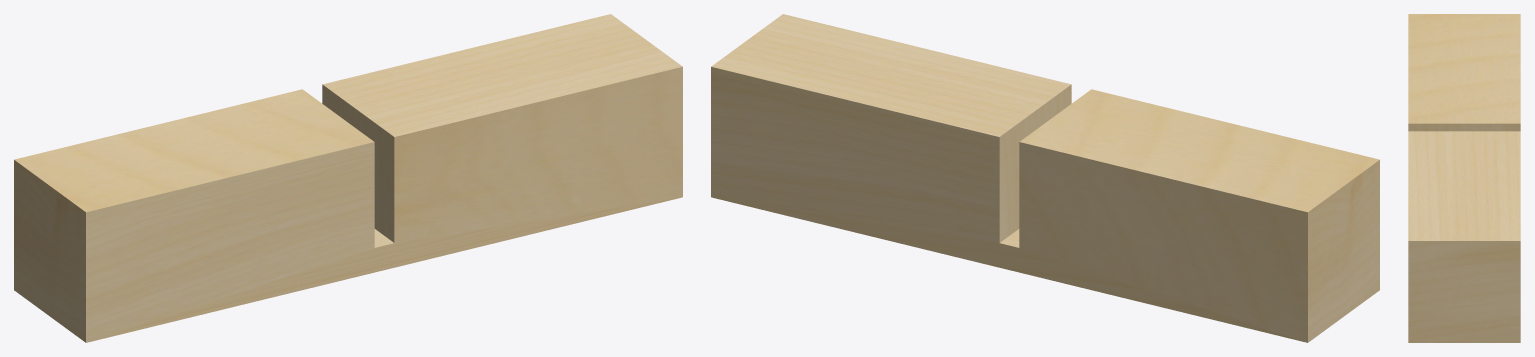
File: wall_stand.dae
The picture shows the model from 3 angles, left to right: view 1: azimuth 30°, elevation 25°; view 2: azimuth 150°, elevation 25°; view 3: azimuth 270°, elevation 25°; orthographic projection. The views are drawn at different scales.
Parts seen in each view (by area): view 1: foot_007; view 2: foot_007; view 3: foot_007.
Part boxes in pixels (x1=…): foot_007: x1=14, y1=14, x2=682, y2=342; foot_007: x1=711, y1=14, x2=1379, y2=342; foot_007: x1=1408, y1=14, x2=1520, y2=342.
Bounding box in the file's own units: 0.33 × 0.069 × 0.069.
Materials: 1 (1 with a texture image).
